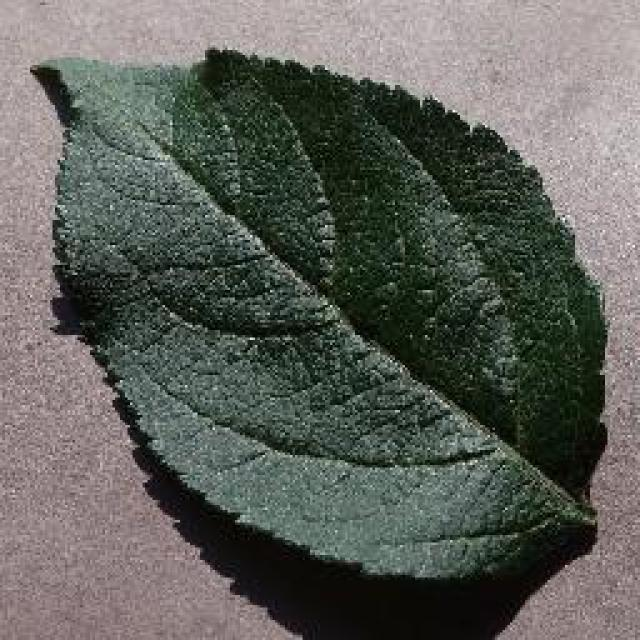apple healthy: (28, 42, 610, 588)
